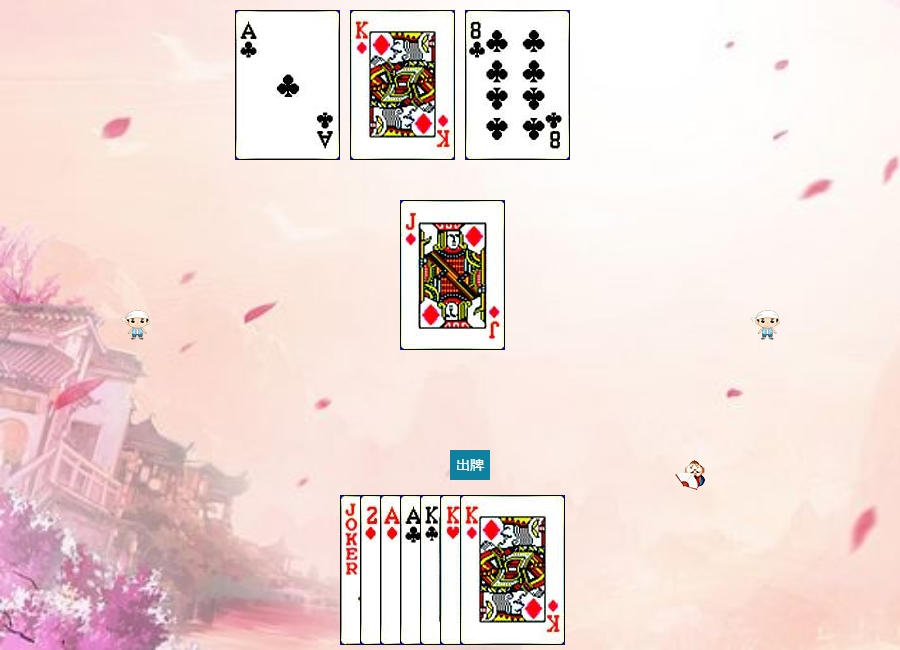11~1: (400, 200, 505, 350)
13~1: (350, 10, 455, 160), (460, 495, 565, 645)
13~2: (420, 495, 525, 645)
13~3: (440, 495, 545, 645)
14~1: (380, 495, 485, 645)
14~2: (235, 10, 340, 160), (400, 495, 505, 645)
15~1: (360, 495, 465, 645)
18~4: (340, 495, 445, 645)
8~2: (465, 10, 570, 160)
